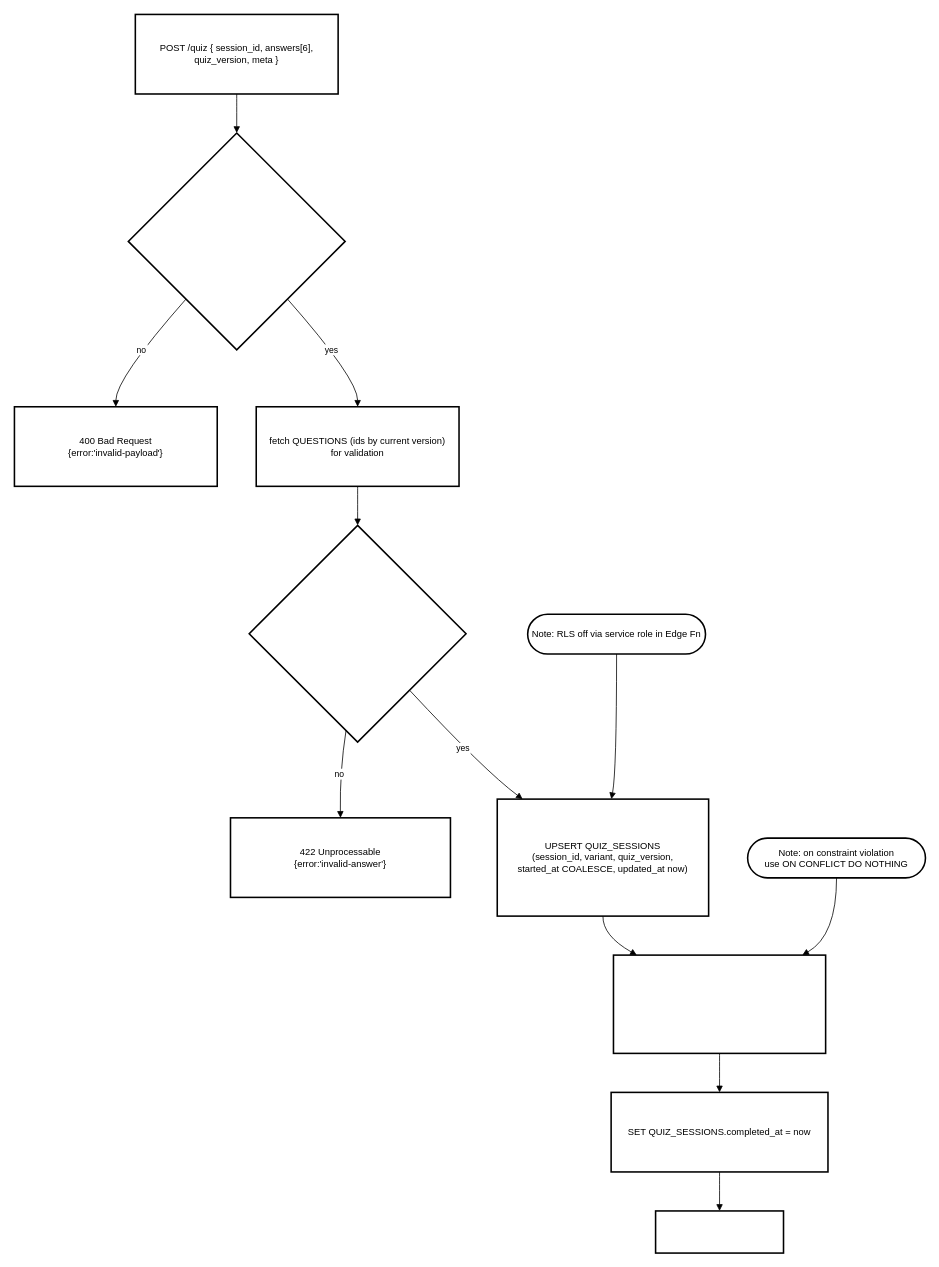
Image size: 939x1267. Some labels were removed from this diagram. Each missing label, with the centre of its shape:
"200 { ok:true }" belongs at (719,1231).
"all answers reference known question/option ?" belongs at (357,633).
"FOR each answer: INSERT INTO QUIZ_ANSWERS (session_id, question_id, answer_id)" belongs at (719,1004).
"session_id format ok and answers length == 6 ?" belongs at (236,241).
